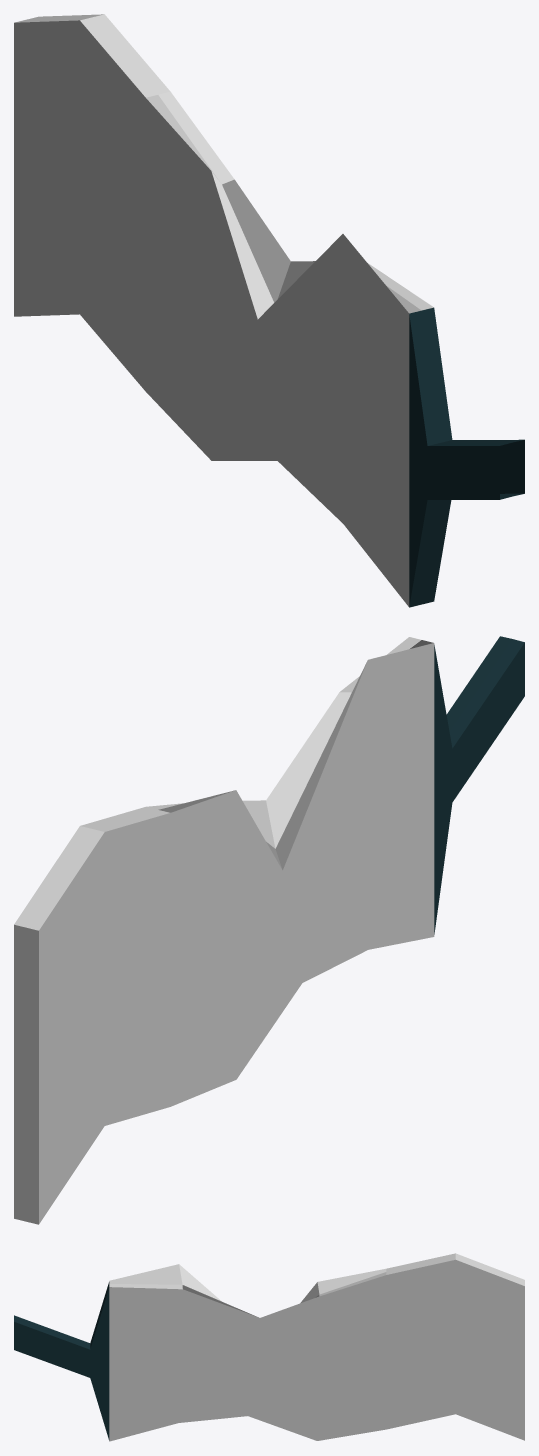
File: Satelites_WingRightTrash.fbx
The picture shows the model from 3 angles, top to bottom: view 1: azimuth 30°, elevation 25°; view 2: azimuth 150°, elevation 25°; view 3: azimuth 270°, elevation 25°; orthographic projection. The views are drawn at different scales.
Visible parts, largest first — view 1: Cube.001; view 2: Cube.001; view 3: Cube.001.
Boxes of the visible parts, x1=… form: Cube.001: x1=14, y1=14, x2=524, y2=607; Cube.001: x1=14, y1=636, x2=524, y2=1224; Cube.001: x1=14, y1=1253, x2=524, y2=1441.
Bounding box in the file's own units: 20.65 × 274 × 698.
